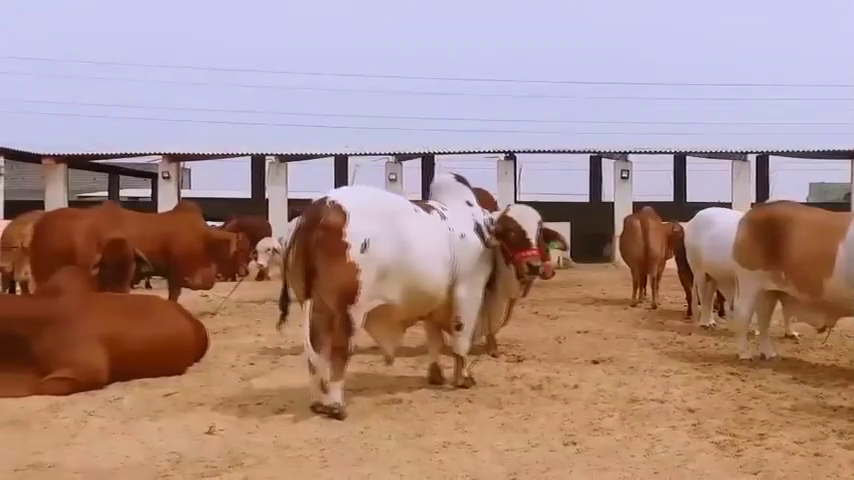bo: (287, 151, 571, 428), (2, 263, 221, 402), (56, 184, 249, 307), (733, 190, 854, 364), (16, 185, 144, 290), (677, 198, 761, 337), (602, 181, 681, 313), (238, 225, 287, 298)
